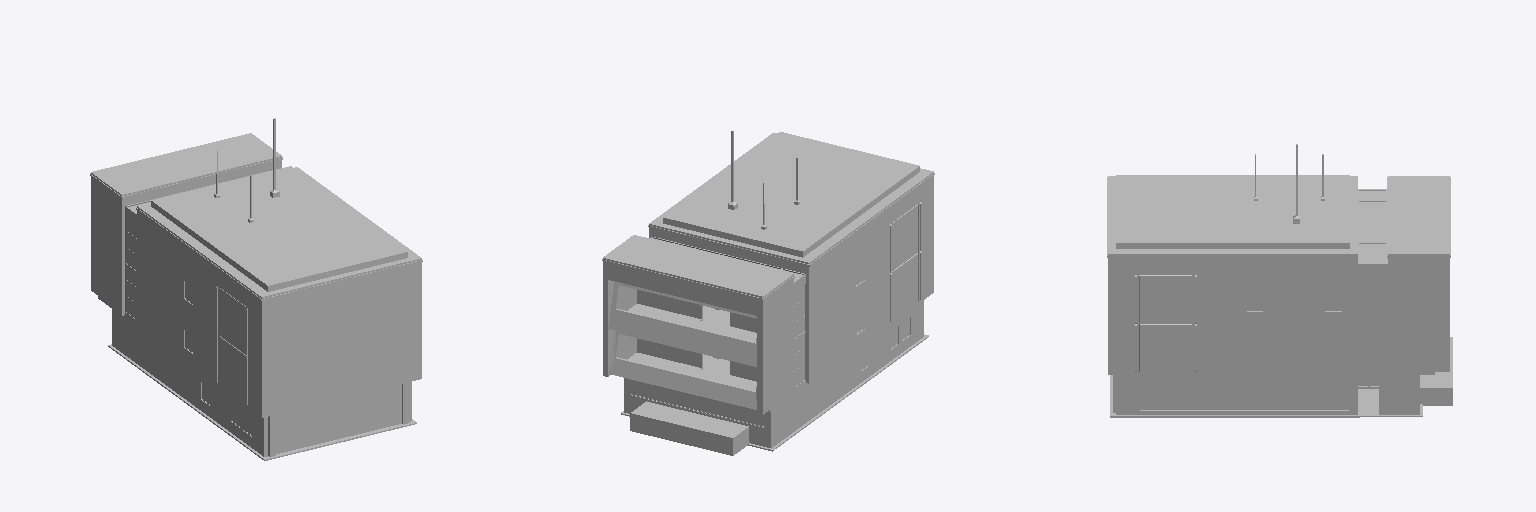
The model's file is Residential Buildings 001.obj.
3 views of the same model, side by side, from view 1: azimuth 30°, elevation 25°; view 2: azimuth 150°, elevation 25°; view 3: azimuth 270°, elevation 25° (orthographic).
Parts seen in each view (by area): view 1: Residential_Buildings_001_Cube.001; view 2: Residential_Buildings_001_Cube.001; view 3: Residential_Buildings_001_Cube.001.
Part boxes in pixels (x1,y1,x2,y2): Residential_Buildings_001_Cube.001: (90,118,422,460); Residential_Buildings_001_Cube.001: (602,131,934,455); Residential_Buildings_001_Cube.001: (1107,144,1452,417).
Bounding box in the file's own units: 12.59 × 18.39 × 23.1.